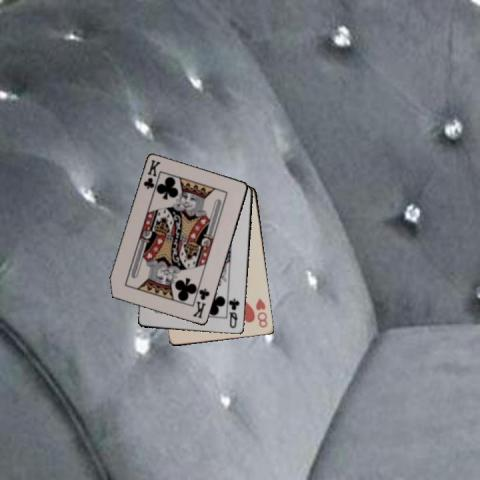8h: (252, 296, 269, 330)
Kc: (190, 285, 211, 320), (141, 156, 162, 190)
Qc: (226, 296, 240, 330)
